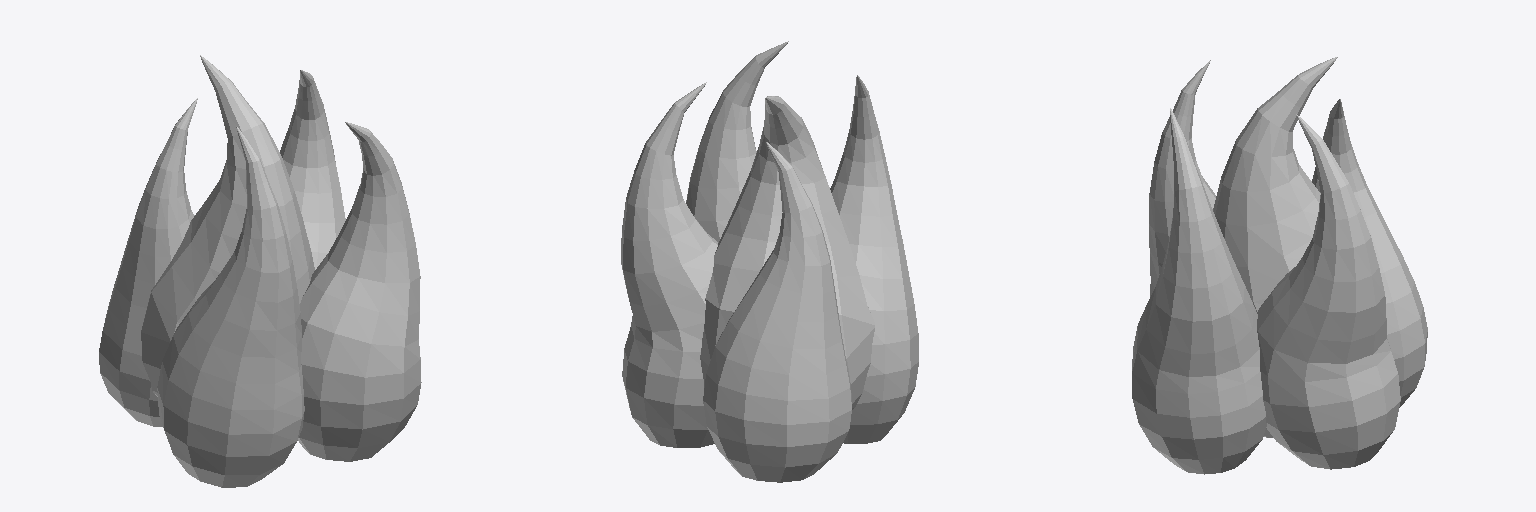
Rendered from fire_000042.obj.
The picture shows the model from 3 angles: view 1: azimuth 30°, elevation 25°; view 2: azimuth 150°, elevation 25°; view 3: azimuth 270°, elevation 25°; orthographic projection.
Parts seen in each view (by area): view 1: flame_NurbsPath.015; view 2: flame_NurbsPath.015; view 3: flame_NurbsPath.015.
Part boxes in pixels (bbox=[...]): flame_NurbsPath.015: bbox=[99, 55, 421, 487]; flame_NurbsPath.015: bbox=[621, 41, 918, 482]; flame_NurbsPath.015: bbox=[1132, 57, 1427, 474].
Bounding box in the file's own units: 0.7429 × 1.13 × 0.8092.